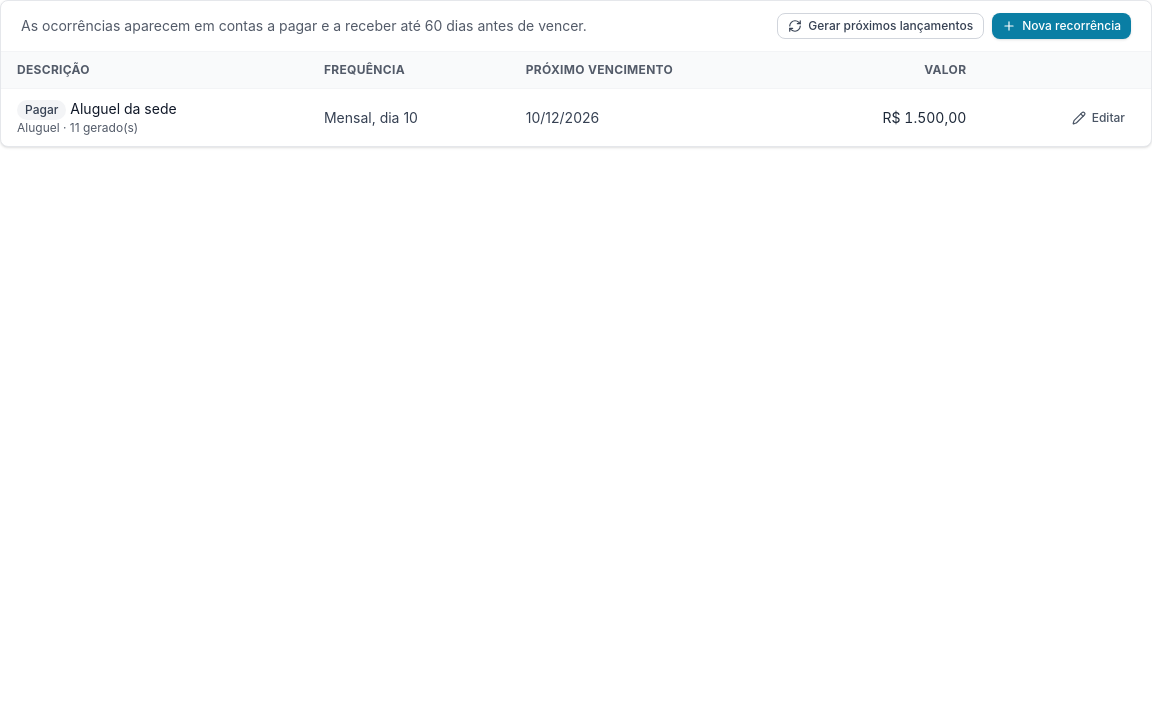
Test: Cadastros › Recorrências › editar: manda o molde alterado, avisa e busca a lista de novo
Expected: the text "Aluguel · 11 gerado(s)" is shown, [17,120,138,135]
Click the button "Editar".
click(1098, 118)  # box [1062,106,1135,130]
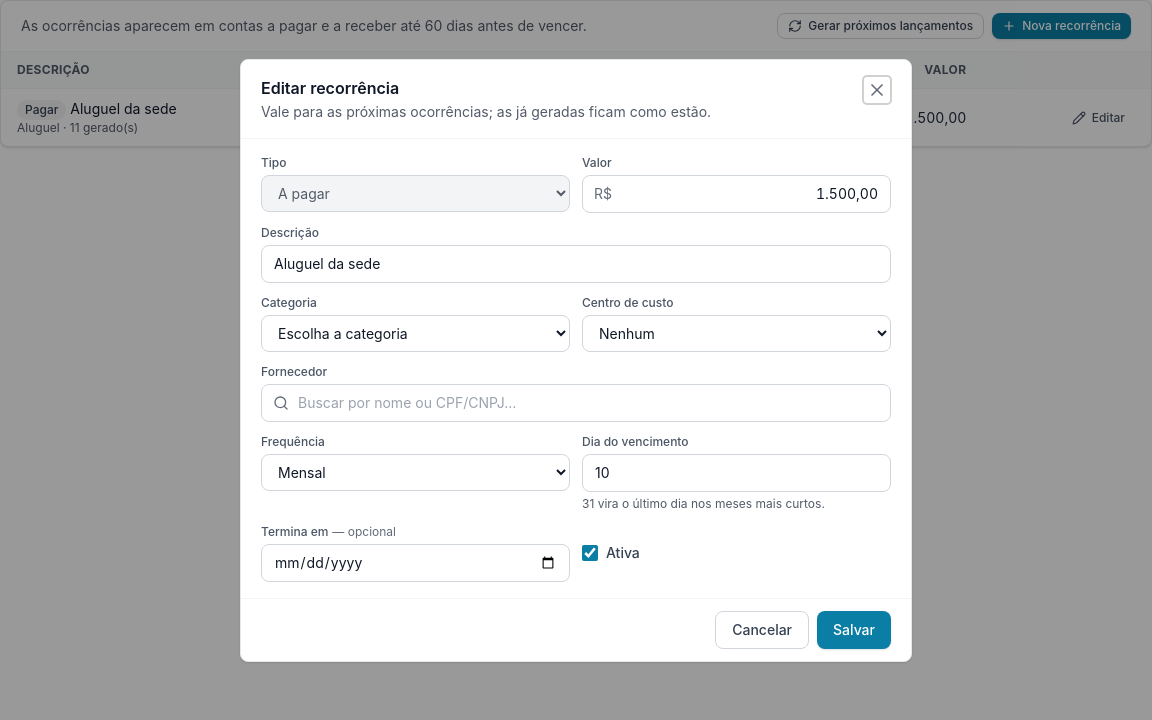
Replace the text in the field labelled "Descrição" with "Aluguel da sede e garagem" at {"x": 576, "y": 264}, box [261,244,891,282]
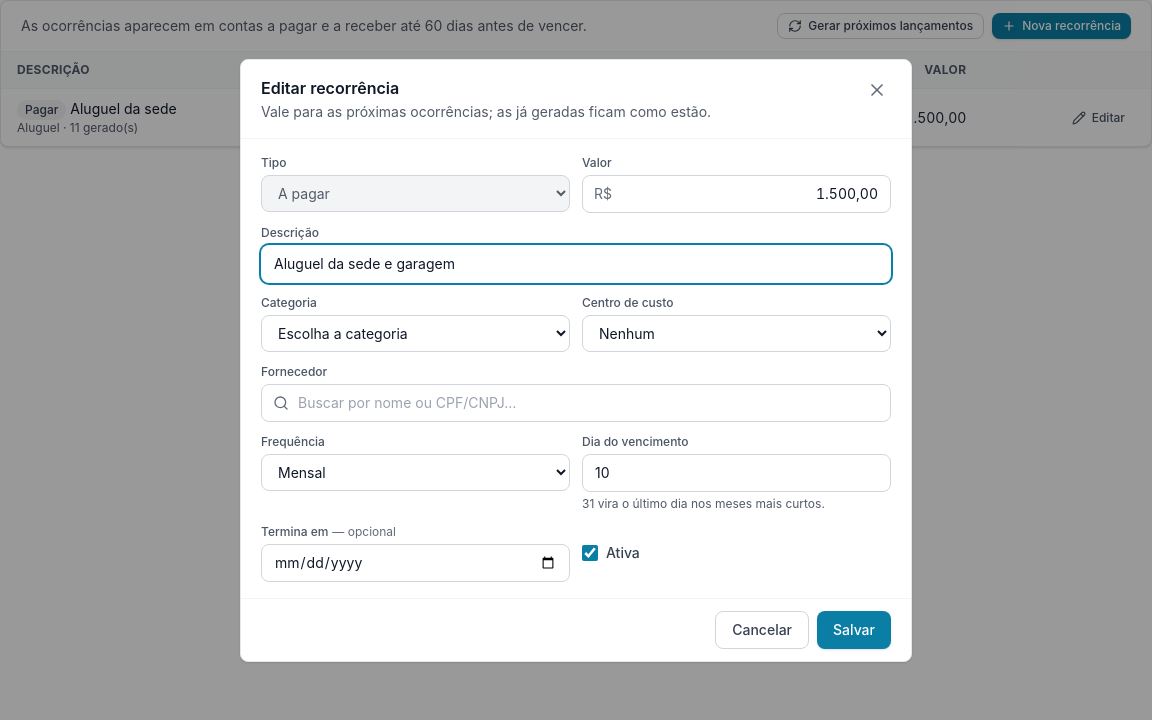
Click the button "Salvar".
click(854, 630)  # box [817,610,891,648]
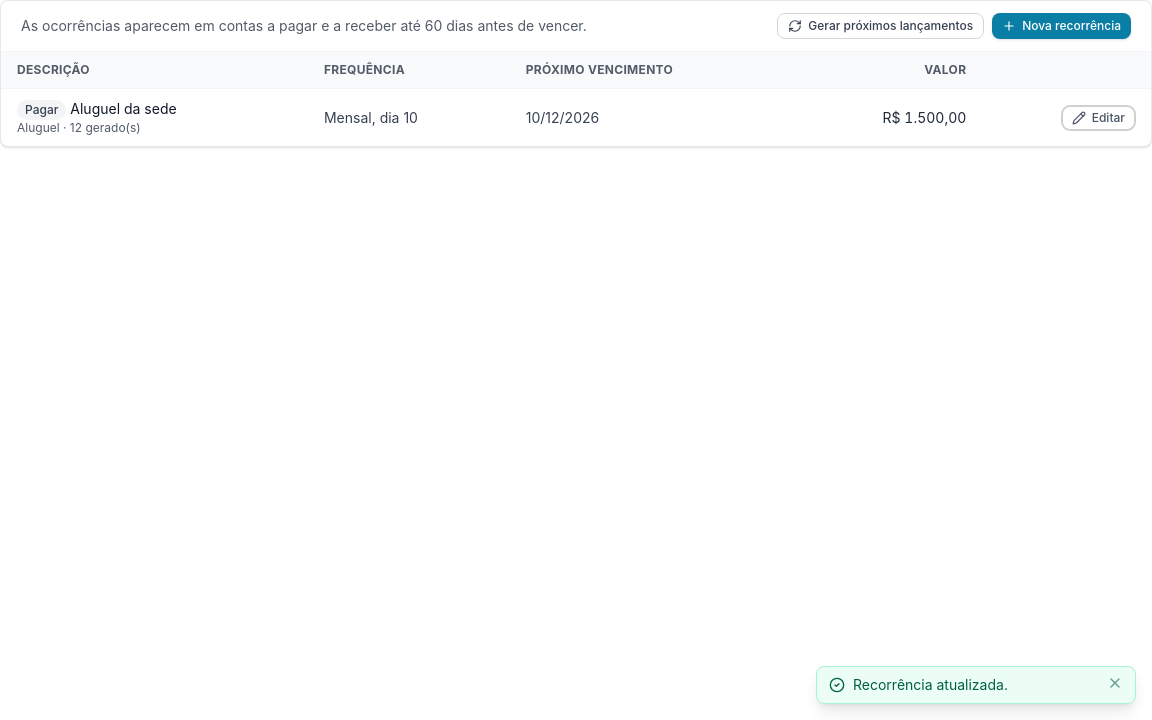
Result: the text "Recorrência atualizada." is shown at [853,676,1008,693]
Result: the text "Aluguel · 12 gerado(s)" is shown at [17,120,141,135]
